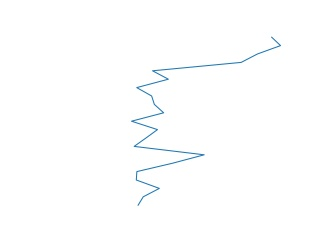crevasseRiverChannelBar: (131, 36, 285, 209)
